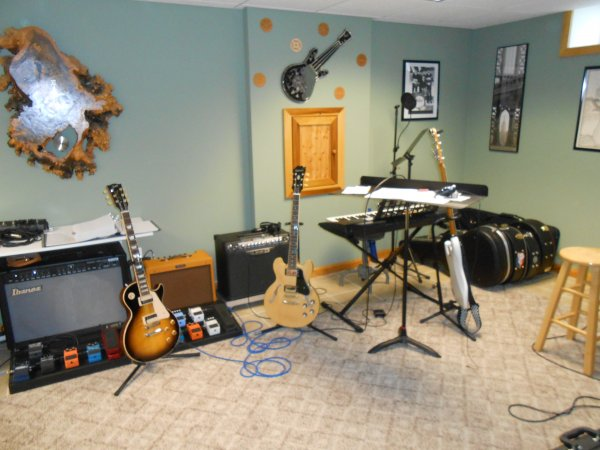acousticguitar: (103, 182, 180, 362), (262, 164, 322, 332), (428, 128, 472, 310), (284, 27, 354, 103)
